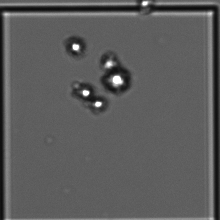Living Cell: (100, 67, 135, 93), (64, 35, 88, 58), (92, 100, 112, 120), (133, 1, 155, 19), (73, 79, 91, 101), (102, 49, 121, 68)
